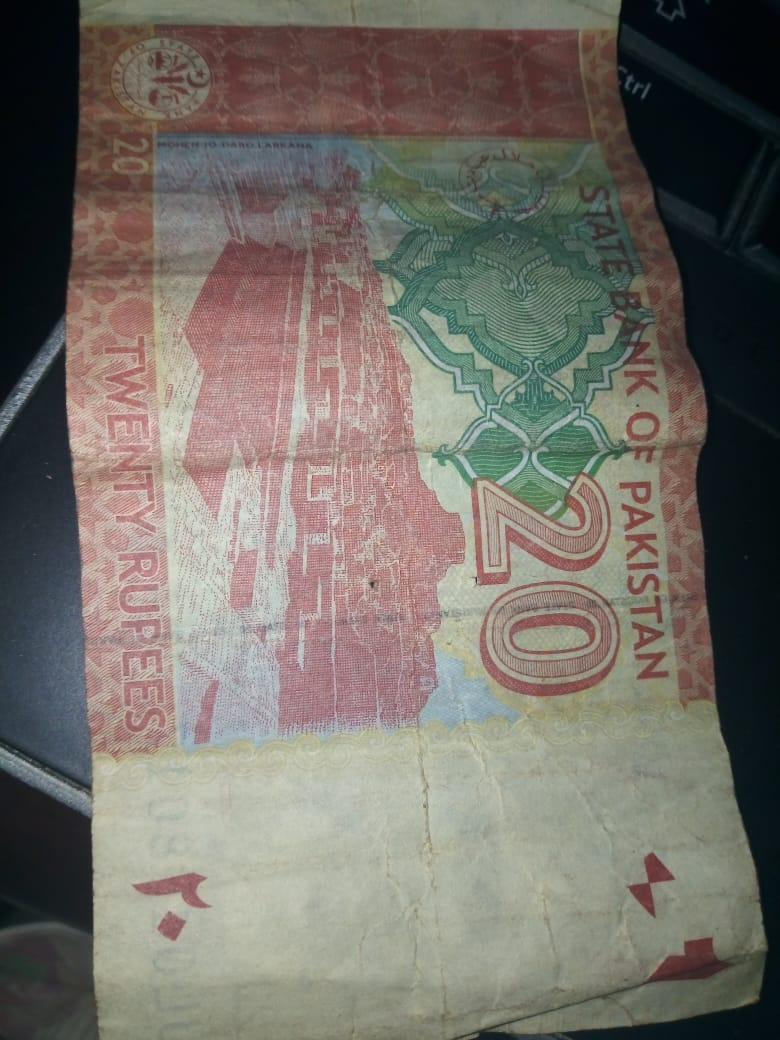20 rupee: (34, 20, 757, 1031)
